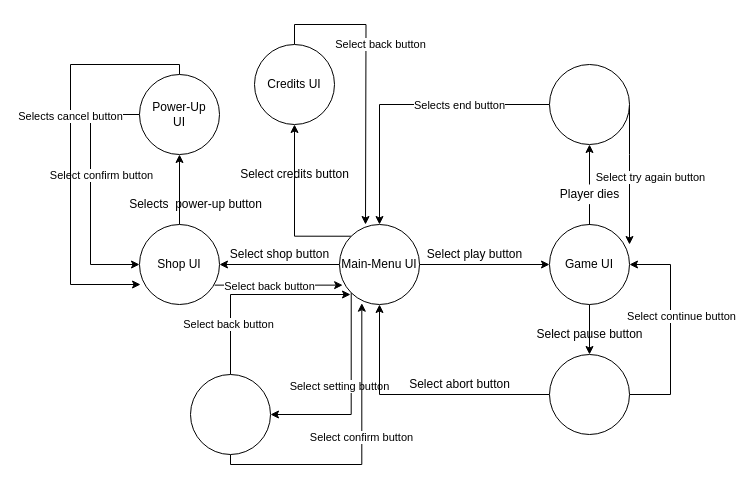
This 752x490 diagram has some shape labels left out. Here are the shapes that lost their labels. From the top down, the centre of each, then its label:
the point at 589,104: Rewards UI
the point at 230,414: Settings UI
the point at 589,394: Pause UI
